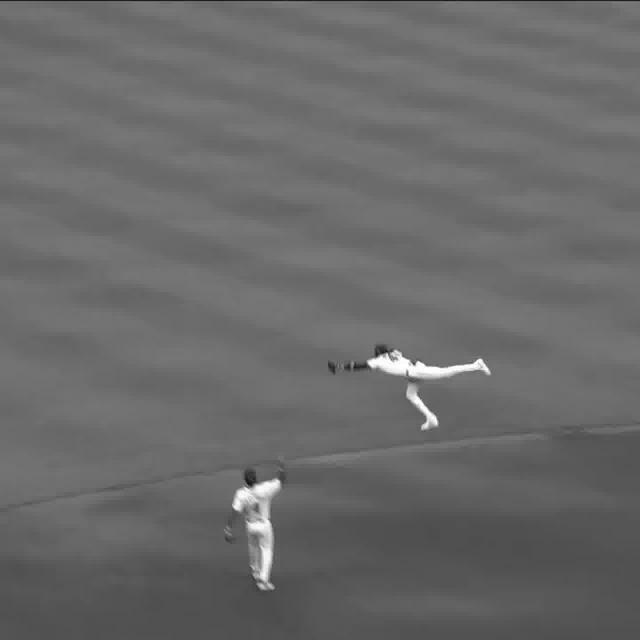baseball_glove: (224, 528, 238, 546), (329, 360, 340, 377)
shoe: (416, 418, 442, 434), (476, 359, 494, 378), (260, 581, 276, 592)
